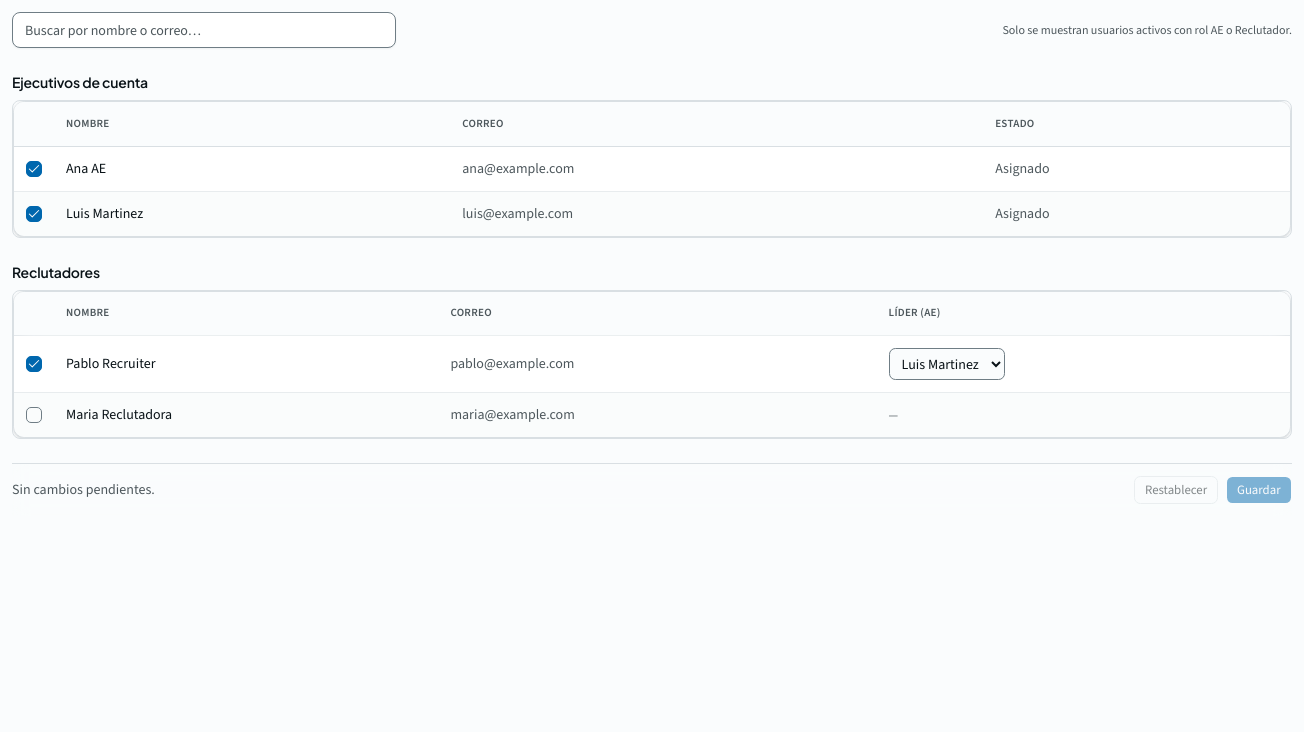
Test: AssignmentTable (US5 polimórfica) › muestra la razón inline cuando el backend responde con offenders
Check: the row with test id "recruiter-row-rec-2" is shown, box 14,392 -> 1290,437
Forzar un cambio para habilitar Guardar.
Click the checkbox named "Asignar a Maria Reclutadora".
click(34, 415)  # box 26,407 -> 42,423
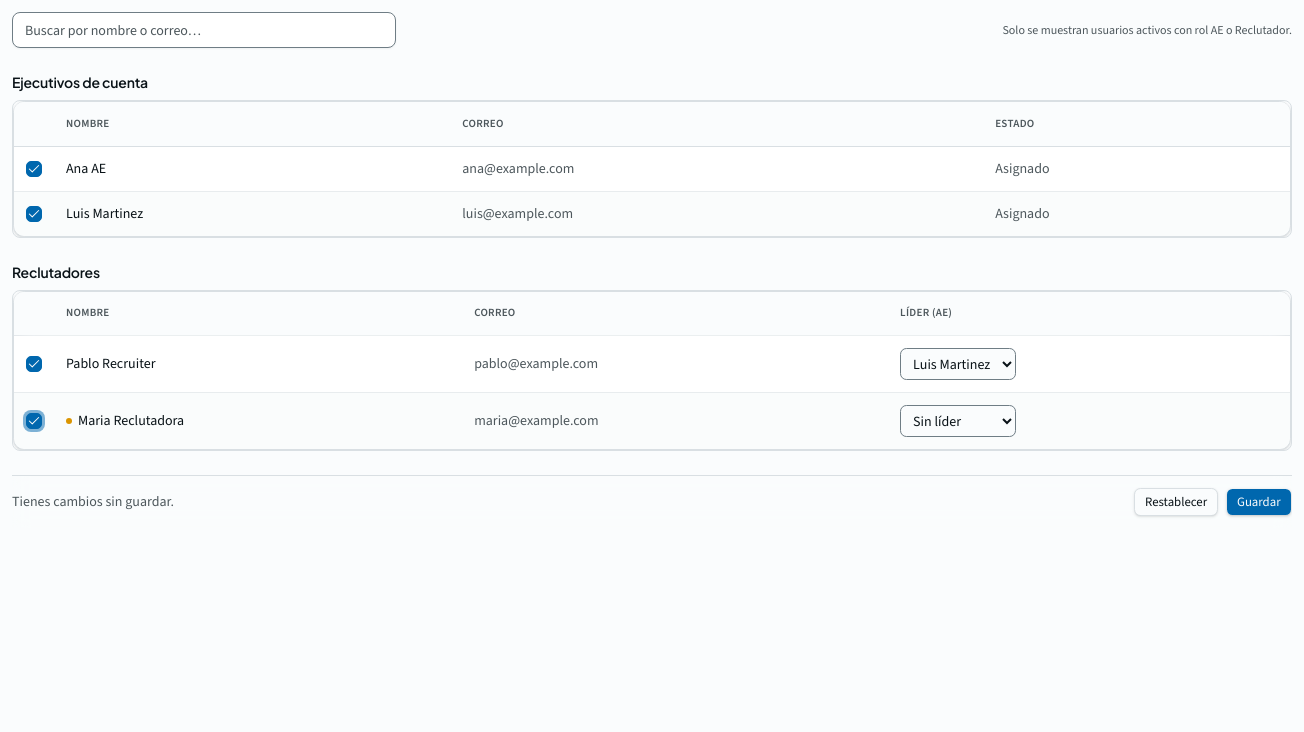
Click the button "Guardar".
click(1259, 502)  # box 1226,488 -> 1292,516
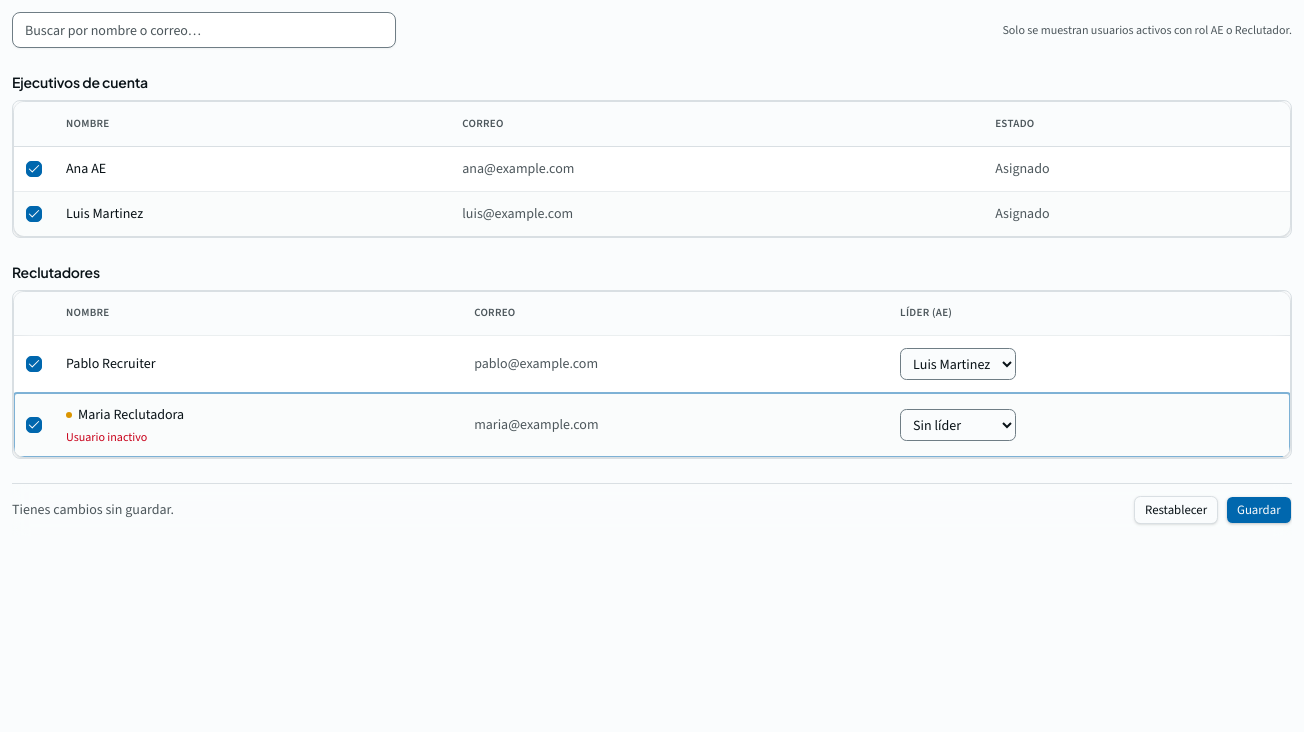
Check: the text "Usuario inactivo" is shown, box 66,429 -> 147,445
